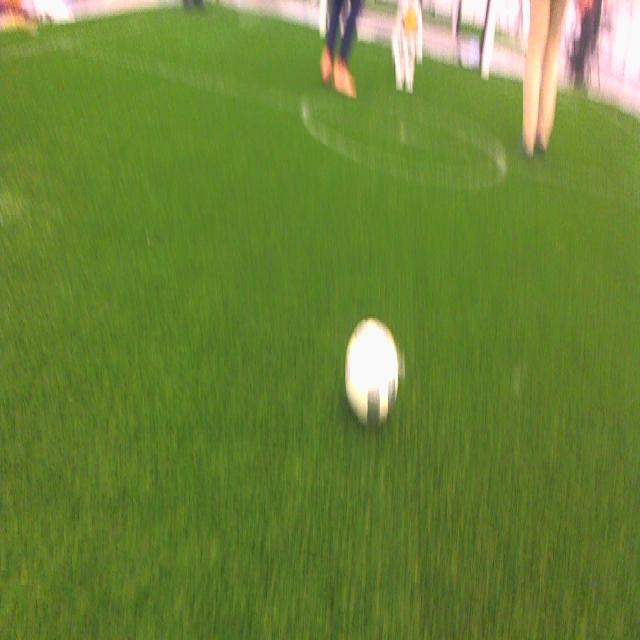ball: (343, 320, 402, 428)
goalpost: (480, 0, 501, 75), (317, 0, 327, 36)
